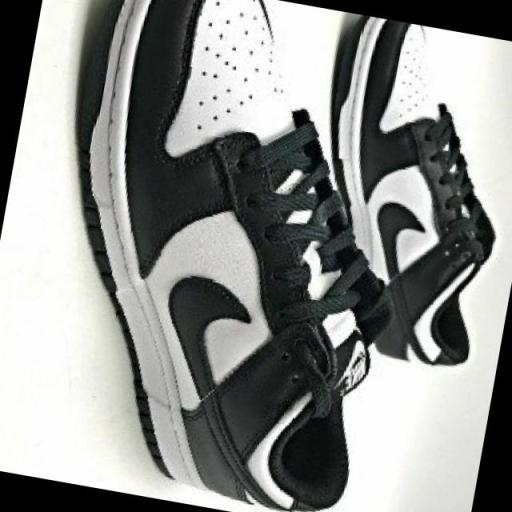Nike: (138, 267, 268, 454)
